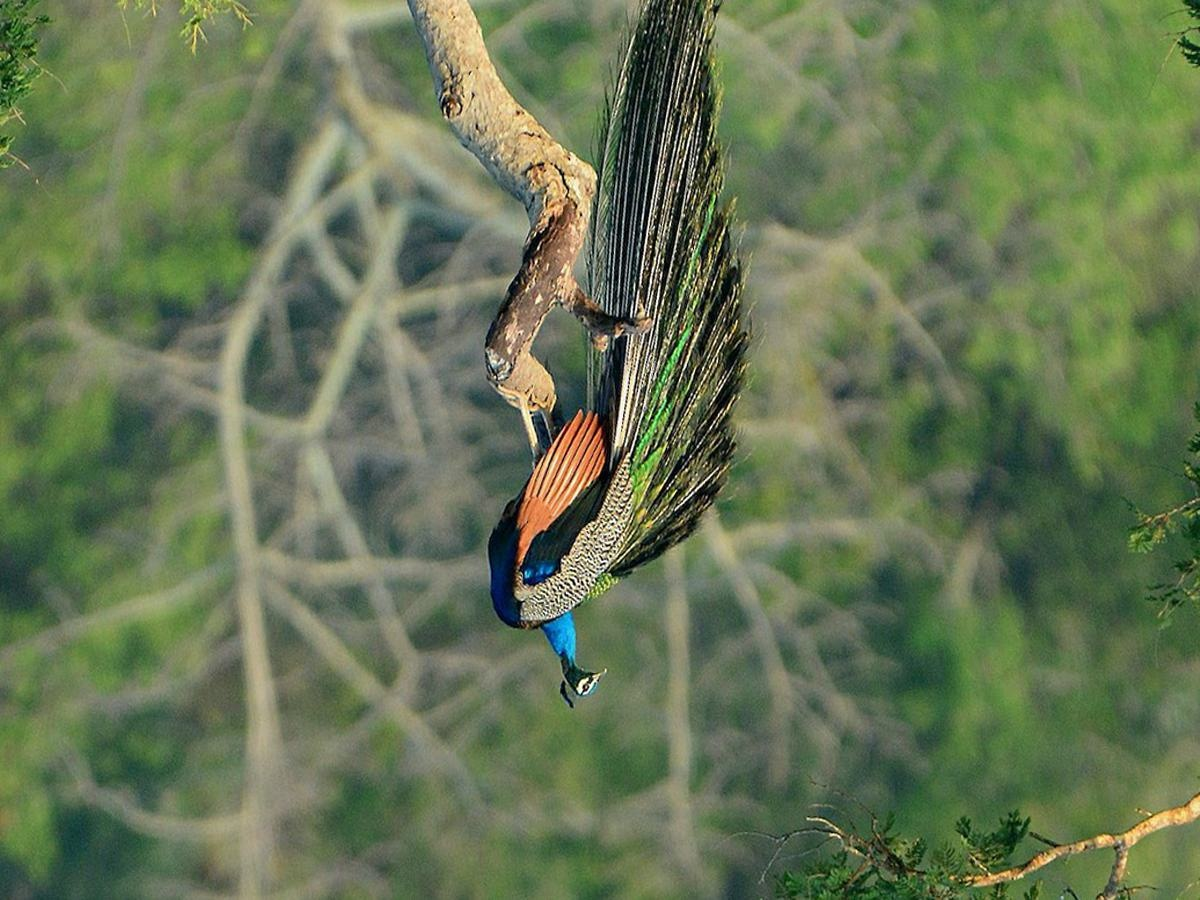peacock: (481, 26, 803, 741)
